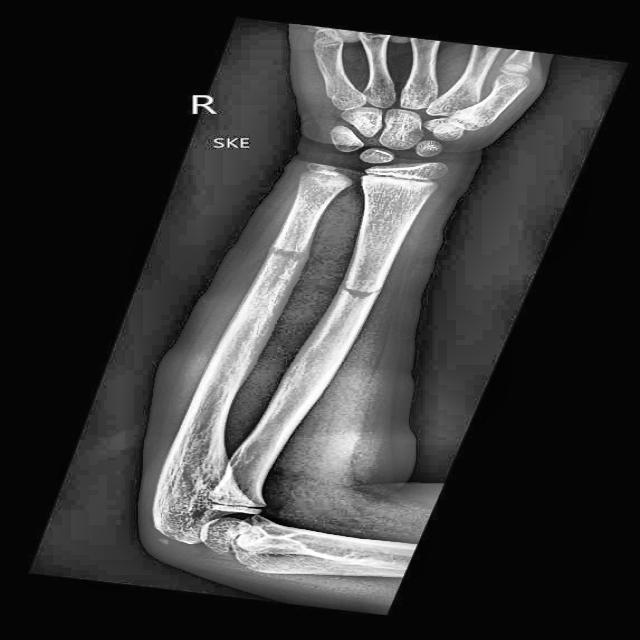fracture: (265, 247, 307, 266), (338, 284, 386, 300)
